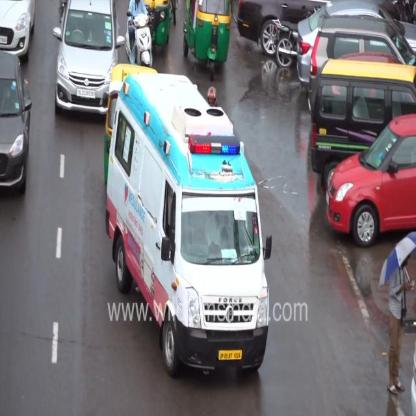auto-rikshaw: (181, 0, 231, 80)
bike: (124, 8, 154, 67), (270, 17, 298, 69)
car: (308, 55, 414, 193), (324, 112, 416, 250), (297, 2, 415, 102), (52, 0, 124, 118), (236, 0, 328, 60), (0, 49, 32, 195), (0, 0, 36, 60)
priority: (104, 69, 272, 377)
